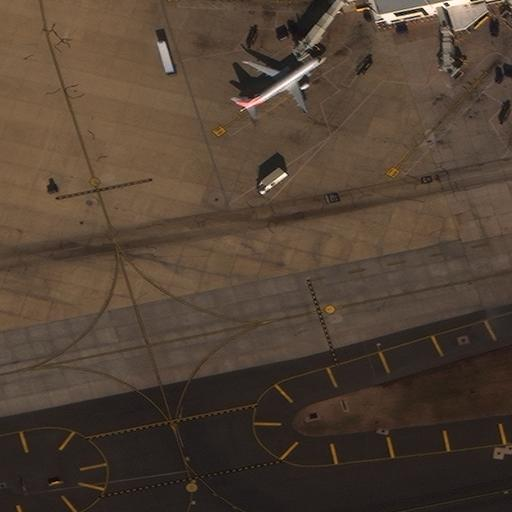Medium Civil Transport: (239, 56, 326, 111)
